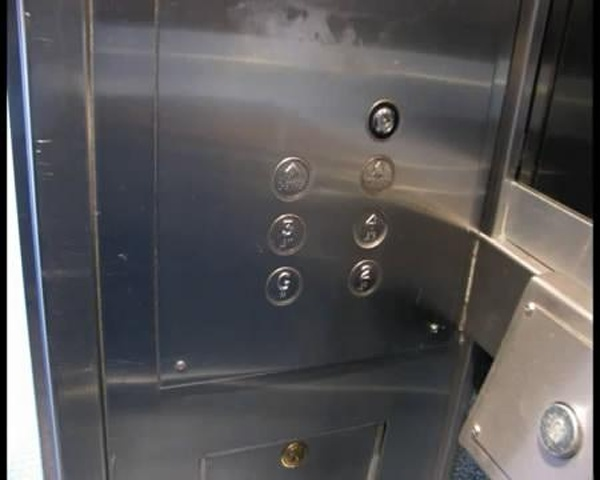2: (348, 258, 382, 299)
3: (265, 211, 310, 259)
4: (351, 205, 391, 250)
G: (264, 265, 305, 308)
blur: (533, 399, 586, 463), (271, 156, 314, 203), (359, 155, 396, 195)
keyhole: (364, 99, 402, 142), (277, 437, 310, 475)
